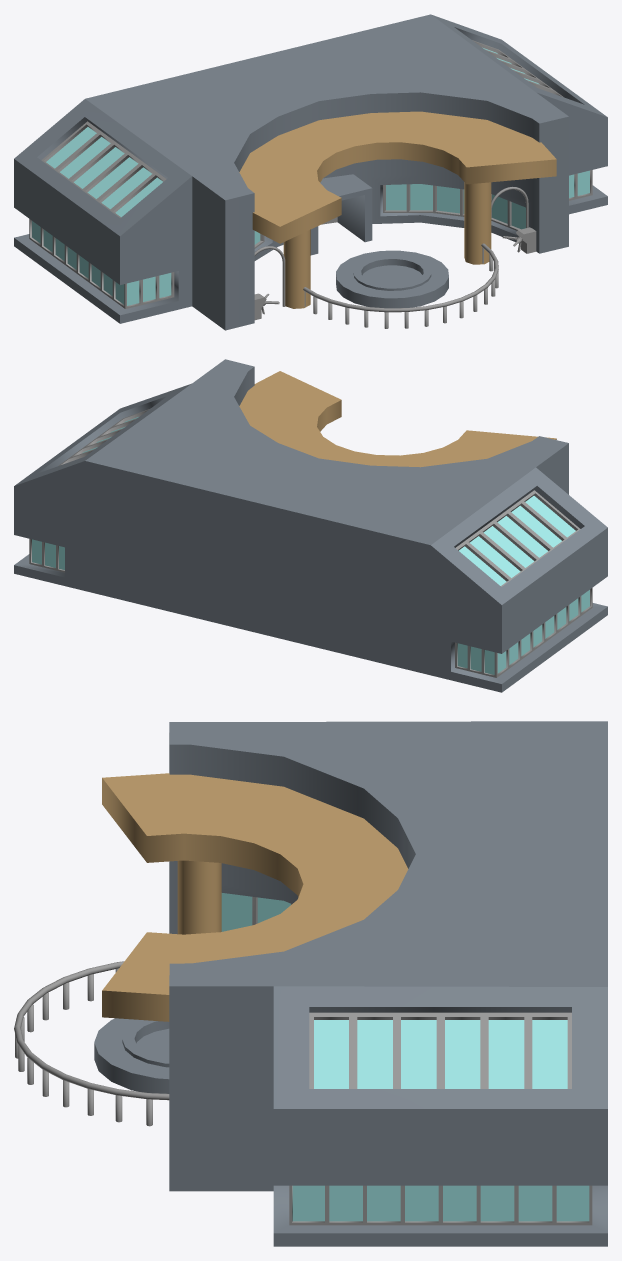
Rendered from Central_building (1).fbx.
The picture shows the model from 3 angles, top to bottom: view 1: azimuth 30°, elevation 25°; view 2: azimuth 150°, elevation 25°; view 3: azimuth 270°, elevation 25°; orthographic projection. The views are drawn at different scales.
Visible parts, largest first — view 1: Cube, Cylinder.001, Cube.001, Cylinder.002, Cylinder, Cube.002, Cube.003, Circle, Circle.002, Cube.004, Circle.001; view 2: Cube, Cylinder.001, Cube.001, Cube.002; view 3: Cube, Cylinder.001, Cube.001, Cube.002, Cylinder.002, Cylinder, Circle.002, Circle, Cube.003.
Boxes of the visible parts, box(x1,y1,x2,y2) form: Cube: box(14, 14, 607, 330); Cylinder.001: box(239, 111, 556, 243); Cube.001: box(41, 40, 562, 217); Cylinder.002: box(336, 250, 448, 308); Cylinder: box(283, 182, 491, 308); Cube.002: box(29, 170, 592, 308); Cube.003: box(254, 184, 525, 248); Circle: box(304, 247, 498, 328); Circle.002: box(303, 243, 498, 312); Cube.004: box(254, 227, 536, 320); Circle.001: box(254, 186, 528, 306); Cube: box(14, 359, 607, 692); Cylinder.001: box(239, 371, 556, 467); Cube.001: box(58, 409, 580, 586); Cube.002: box(29, 538, 592, 677); Cube: box(169, 721, 607, 1246); Cylinder.001: box(102, 773, 408, 1021); Cube.001: box(309, 1012, 571, 1088); Cube.002: box(289, 1185, 592, 1225); Cylinder.002: box(94, 1018, 169, 1093); Cylinder: box(177, 860, 221, 934); Circle.002: box(14, 961, 169, 1100); Circle: box(15, 968, 152, 1126); Cube.003: box(221, 893, 291, 931).
Size of the model in its own units: 2454 by 627 by 1642.
